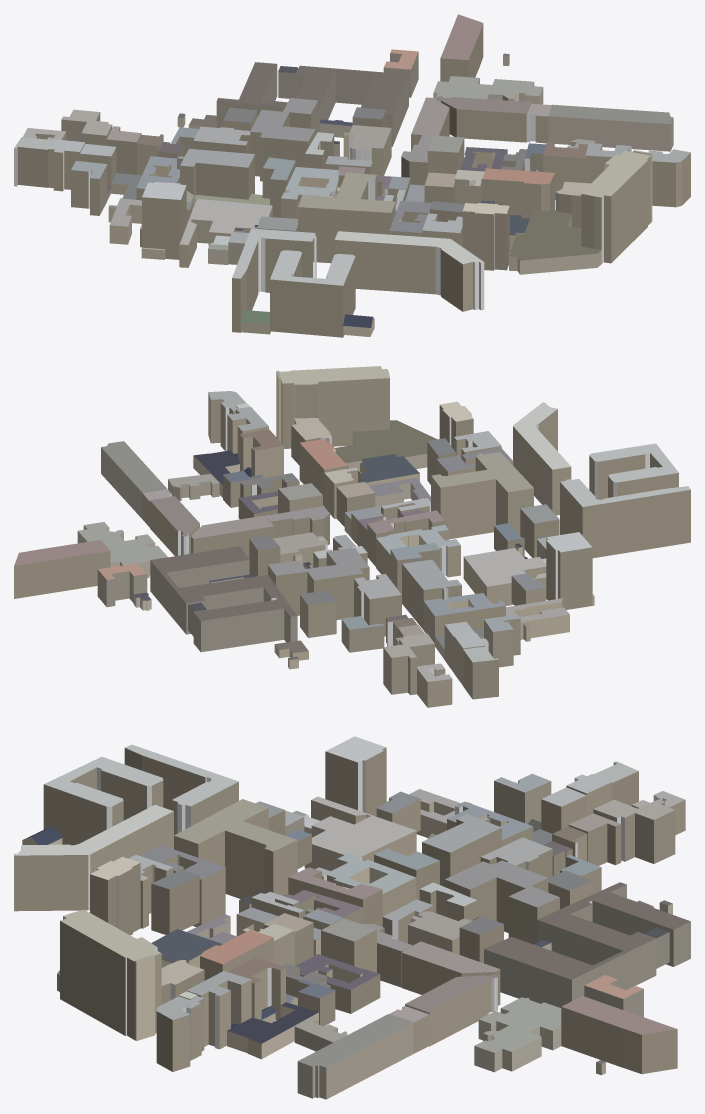
3 views of the same model, one above another, from view 1: azimuth 30°, elevation 25°; view 2: azimuth 150°, elevation 25°; view 3: azimuth 270°, elevation 25° (orthographic). The views are drawn at different scales.
Parts seen in each view (by area): view 1: tuile; view 2: tuile; view 3: tuile.
Boxes of the visible parts, box(x1,y1,x2,y2) form: tuile: box(14, 14, 690, 337); tuile: box(14, 366, 690, 707); tuile: box(14, 736, 690, 1099).
Size of the model in its own units: 282 by 39.71 by 266.
